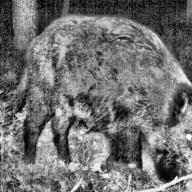boar: (20, 7, 192, 192)
